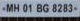character: (6, 3, 13, 12), (42, 3, 49, 12), (13, 3, 19, 12), (36, 3, 42, 12), (22, 3, 27, 12), (52, 3, 57, 12), (57, 3, 62, 12), (63, 3, 68, 12), (68, 3, 73, 12), (28, 4, 32, 12)
